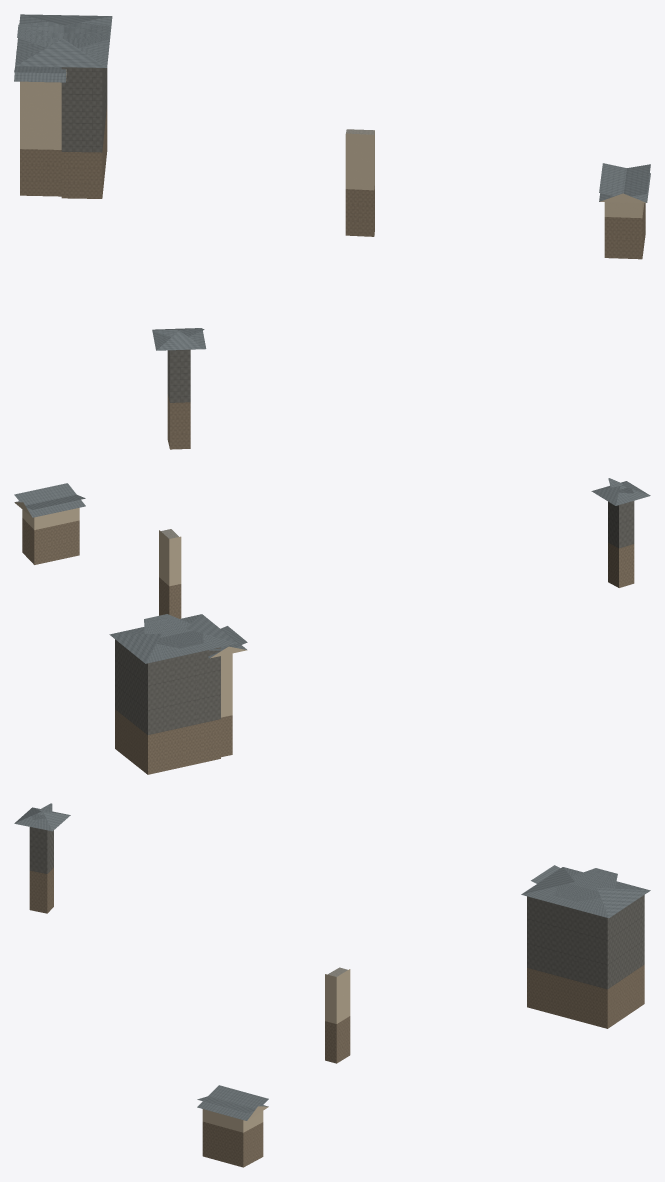
Rendered from bld_c41_-47_458.gltf.
3 renders of one model, top to bottom at view 1: azimuth 30°, elevation 25°; view 2: azimuth 150°, elevation 25°; view 3: azimuth 270°, elevation 25°, orthographic. The views are drawn at different scales.
Visible parts, largest first — view 1: bld_c41_-47_458; view 2: bld_c41_-47_458; view 3: bld_c41_-47_458.
Boxes of the visible parts, x1,y1,x2,y2 form: bld_c41_-47_458: [14, 14, 650, 449]; bld_c41_-47_458: [14, 478, 650, 774]; bld_c41_-47_458: [14, 803, 650, 1167].
Bounding box in the file's own units: 71.21 × 16.2 × 74.52.
Materials: 6 (6 with a texture image).
